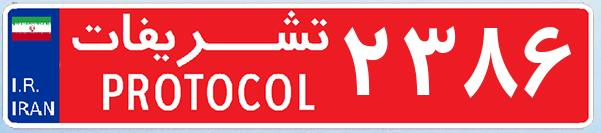2: (340, 20, 400, 115)
3: (400, 20, 460, 115)
6: (520, 20, 580, 115)
8: (460, 20, 520, 115)
تشریفات: (60, 8, 340, 125)
